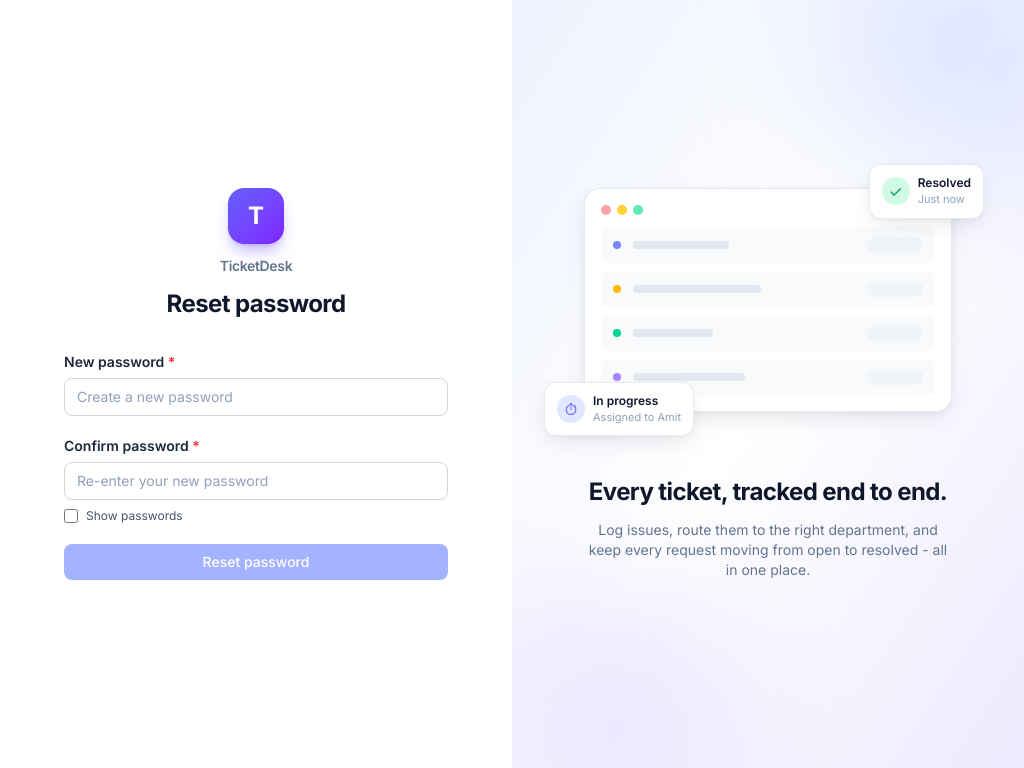
Test case: ResetPasswordPage › submits the token, email, and new password, then shows a success message
Type "NewPass2@" into the password field labelled "New password *" at (256, 397), box [64,378,448,416]
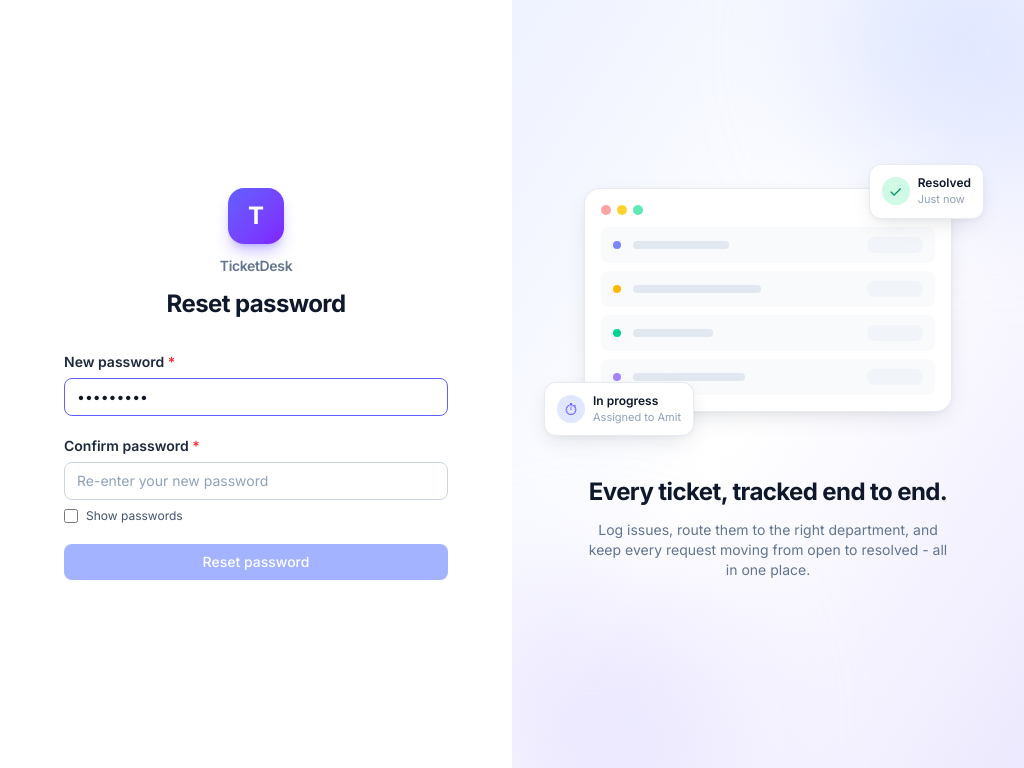
Type "NewPass2@" into the password field labelled "Confirm password *" at (256, 481), box [64,462,448,500]
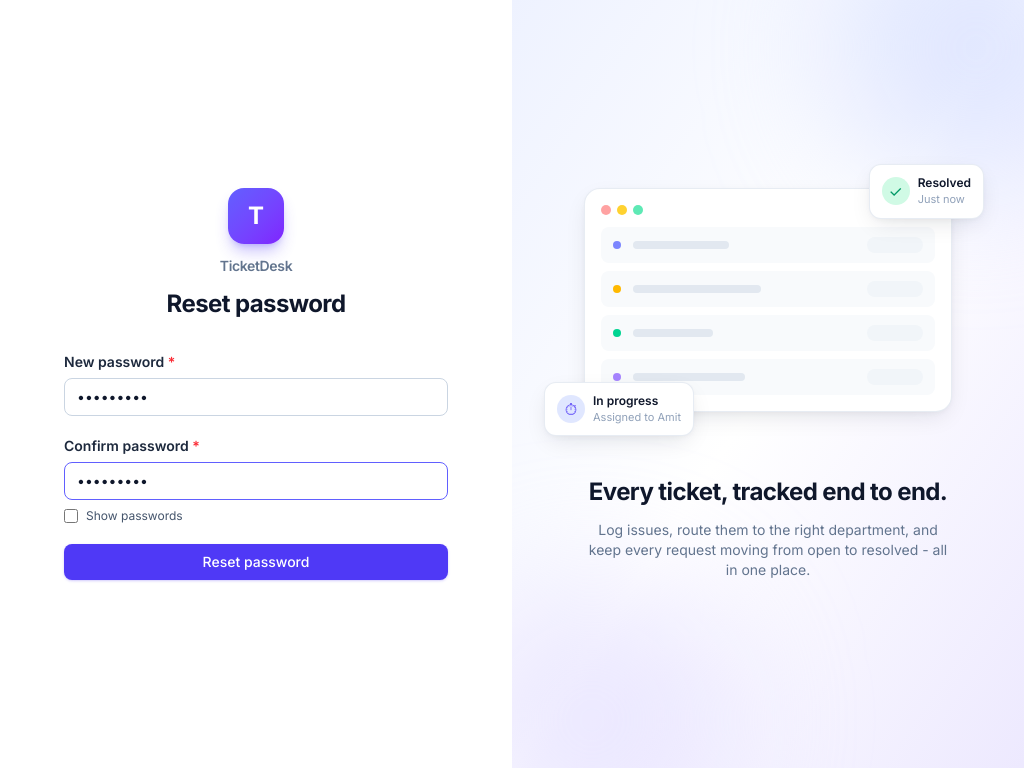
Click the button "Reset password" at (256, 562), box [64,544,448,580]
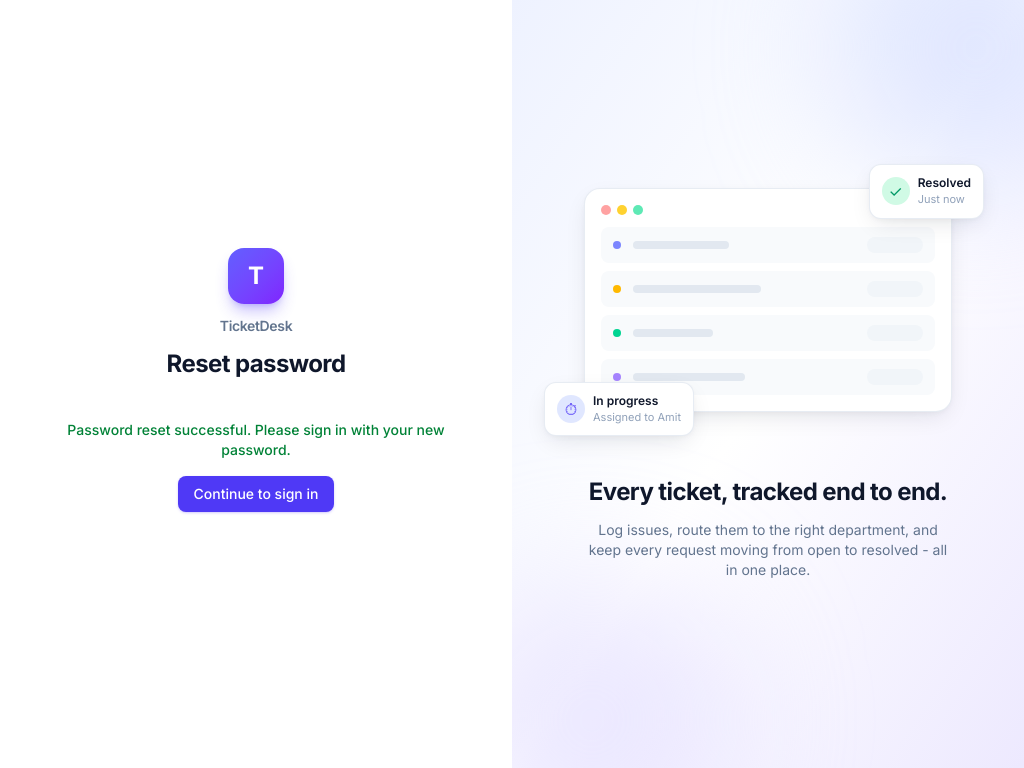
Check: the text "Password reset successful" is shown, box [67,421,445,458]
Check: the link "Continue to sign in" is shown, box [178,476,334,512]
